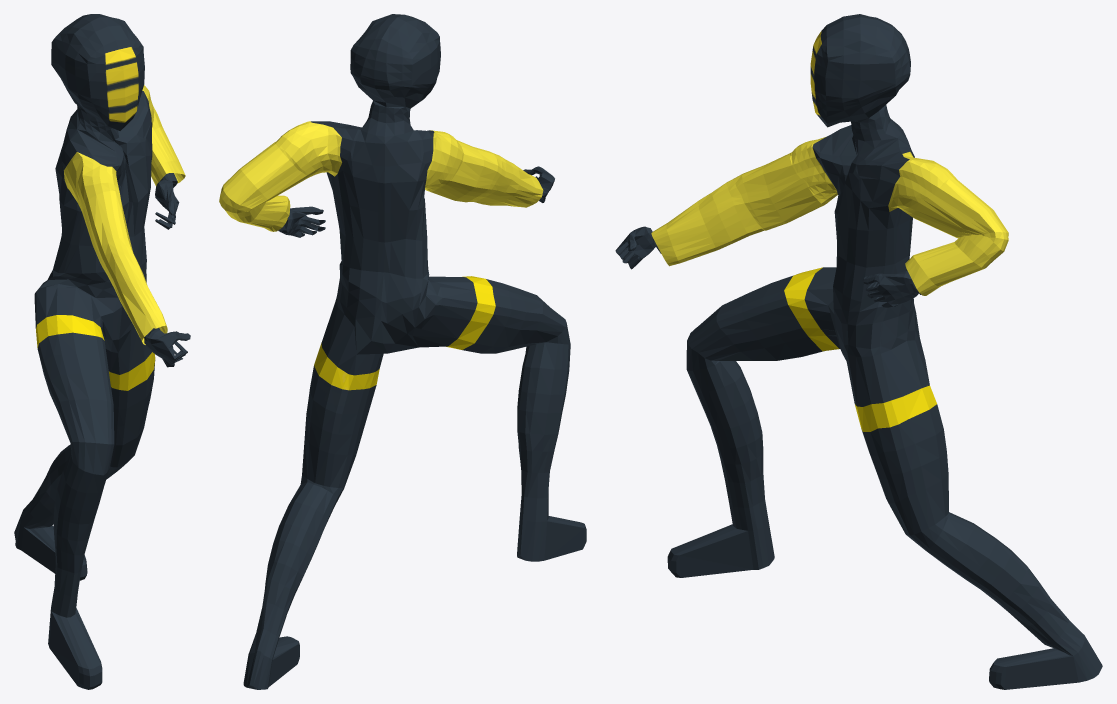
Rendered from Sentry_WL_000019.obj.
3 views of the same model, side by side, from view 1: azimuth 30°, elevation 25°; view 2: azimuth 150°, elevation 25°; view 3: azimuth 270°, elevation 25° (orthographic). The views are drawn at different scales.
Parts seen in each view (by area): view 1: Cube; view 2: Cube; view 3: Cube.
Part boxes in pixels (bbox=[...]): Cube: bbox=[14, 14, 190, 689]; Cube: bbox=[219, 14, 586, 689]; Cube: bbox=[615, 14, 1102, 689].
Size of the model in its own units: 1.36 by 3.59 by 2.46.
